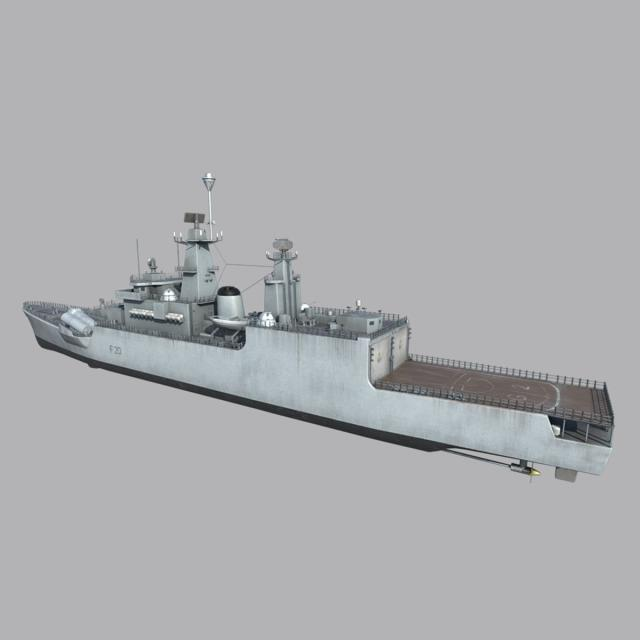Frigate-Godavari-Class-IND: (25, 152, 619, 482)
